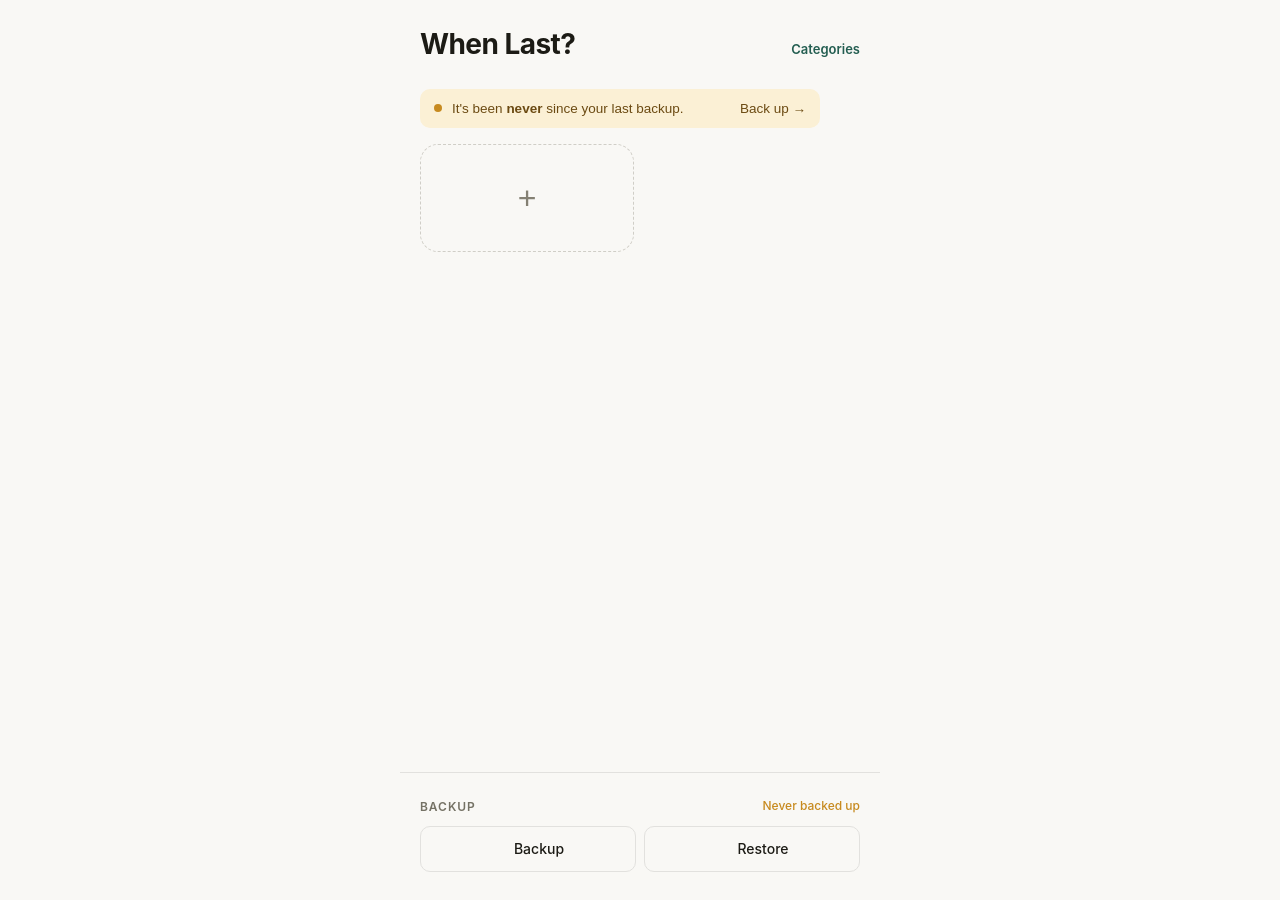
Test case: App › adds an action, opens its detail, and logs it
Step 1. Click the button named "Add action" → click(527, 198), box [420,144,634,252]
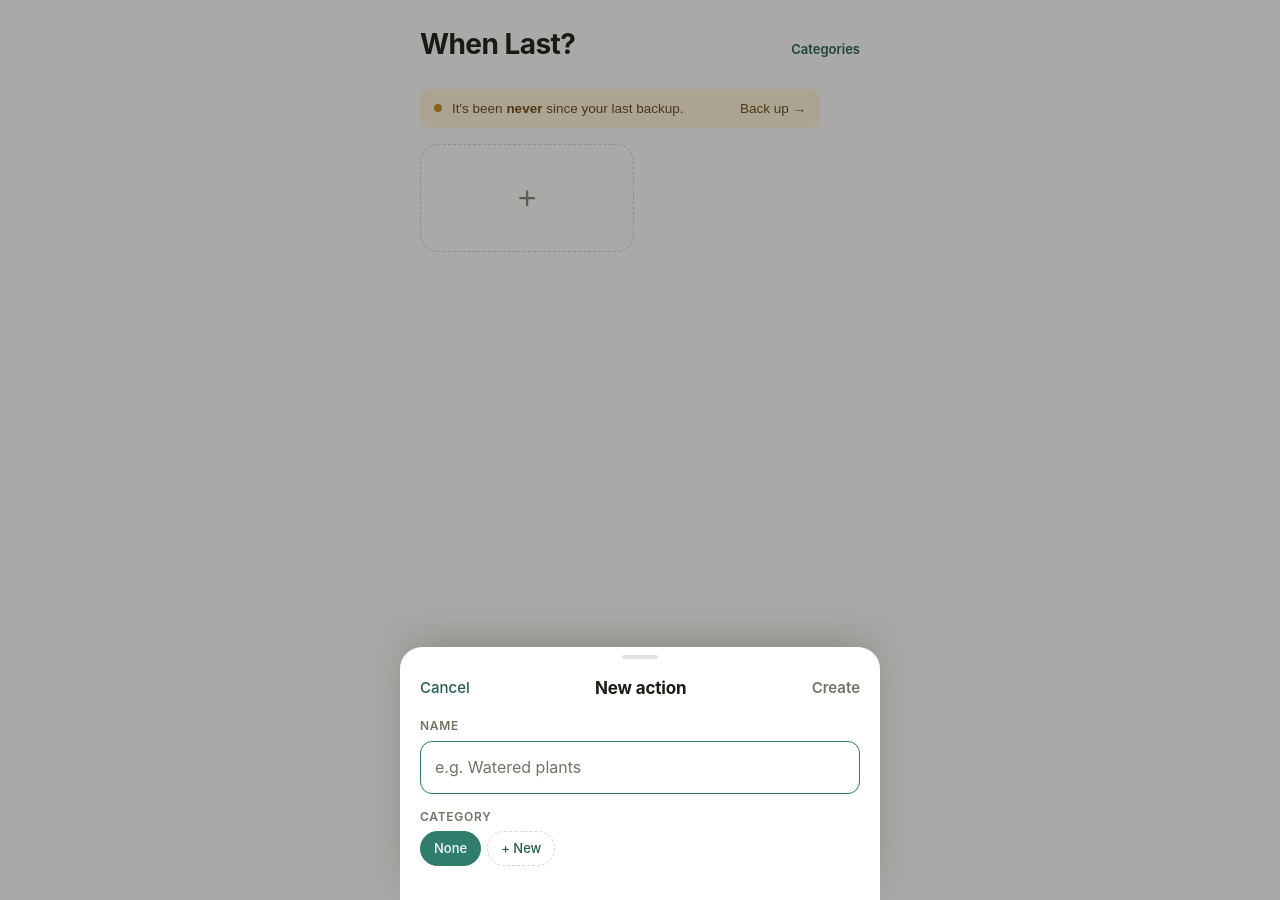
Step 2. Type "Watered plants" into the field with placeholder "e.g. Watered plants" → (640, 767), box [420,741,860,794]
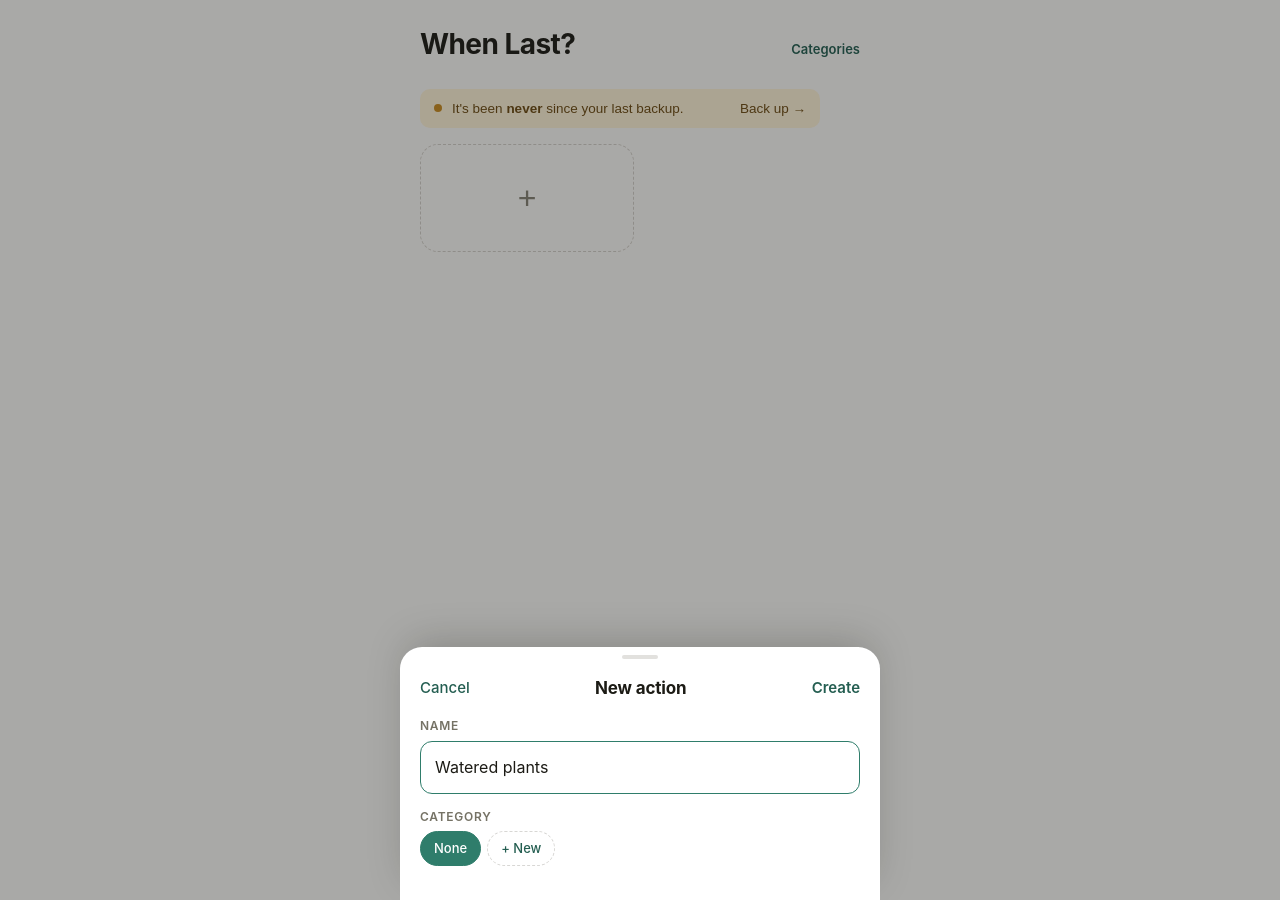
Step 3. Click the button "Create" → click(836, 688), box [812,671,860,705]
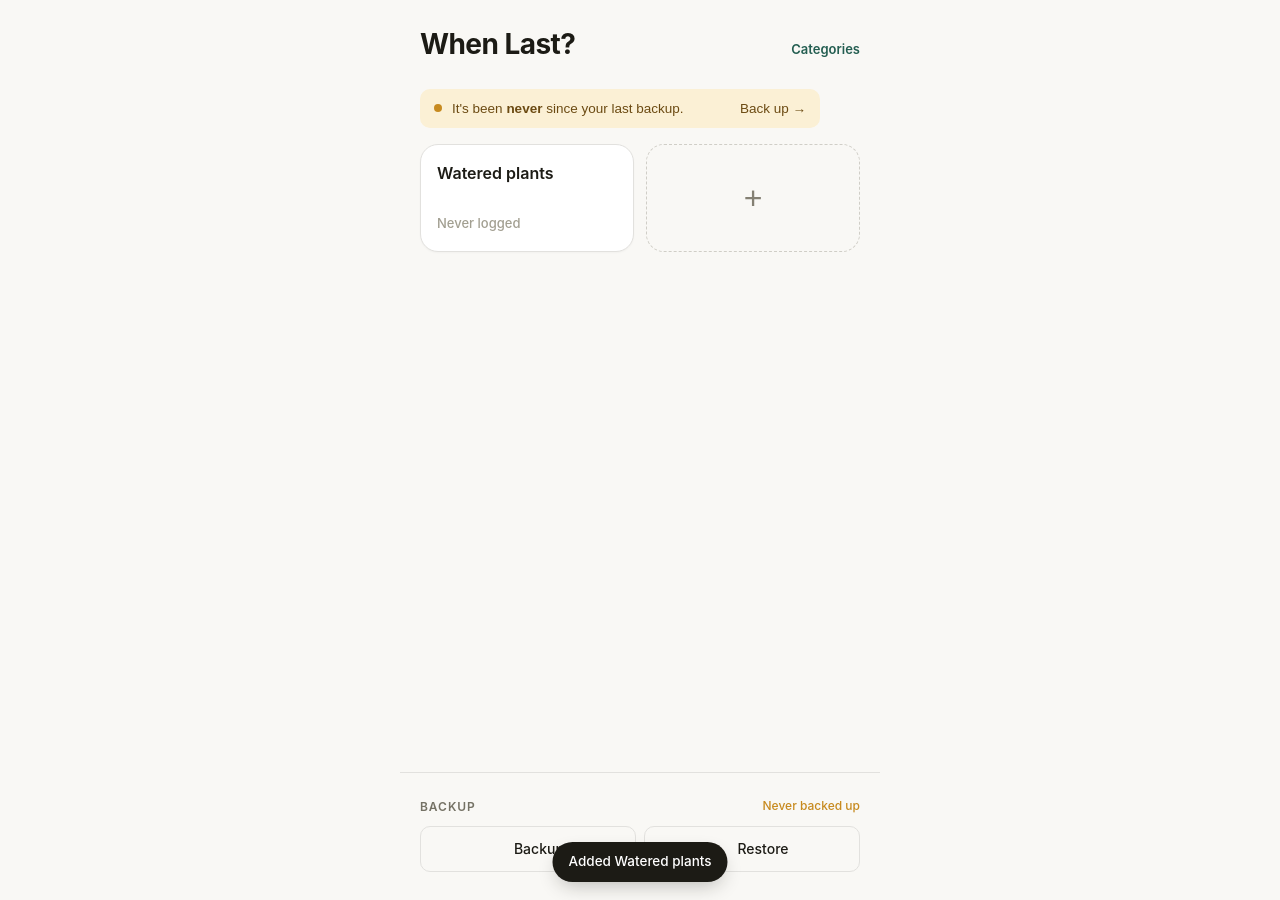
Now the button "Watered plants Never logged" is shown
Step 4. Click the button "Watered plants Never logged" → click(527, 198), box [420,144,634,252]
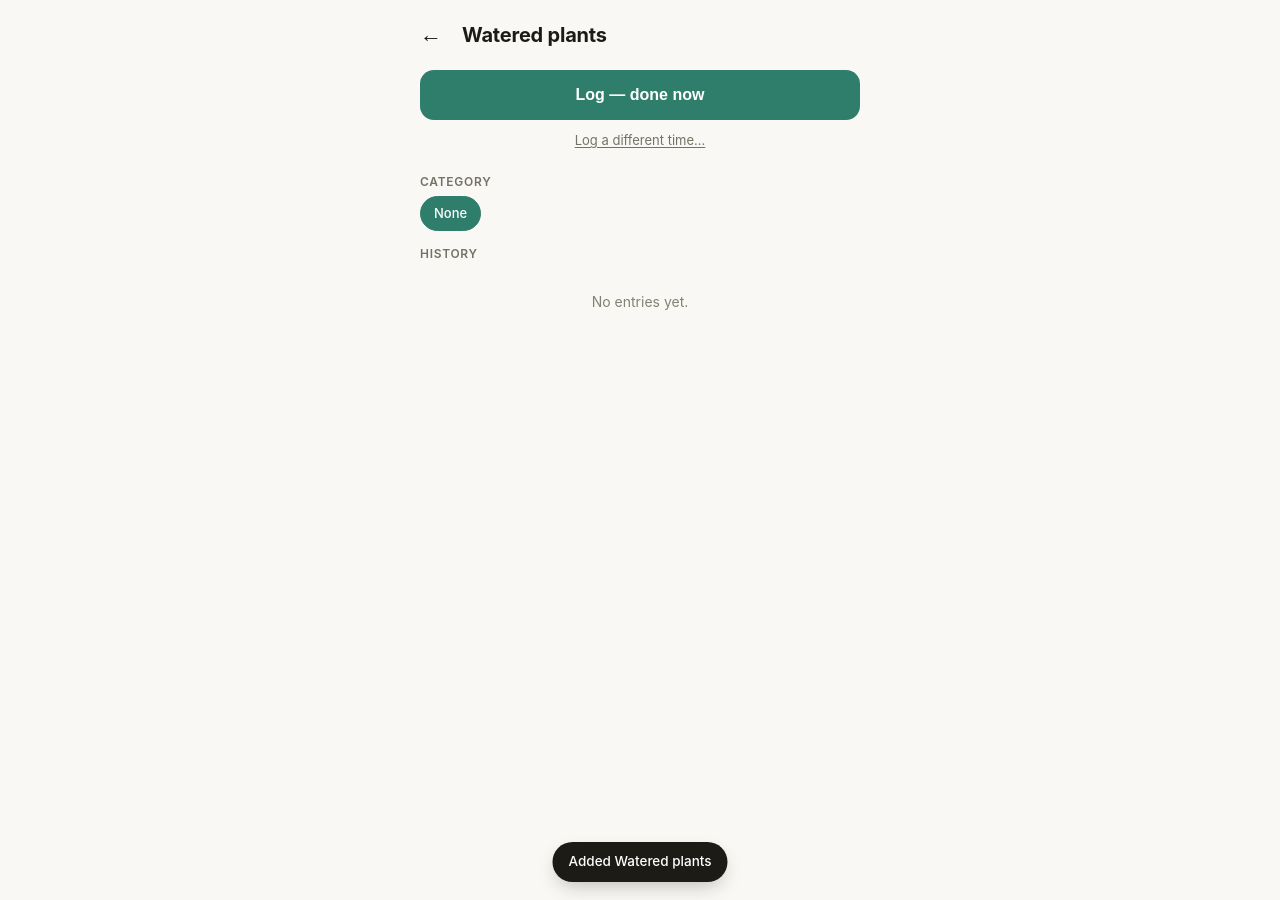
Now the heading "Watered plants" is shown, box [462,20,607,50]
Now the text "No entries yet." is shown, box [592,294,688,310]
Step 5. Click the button "Log — done now" → click(640, 95), box [420,70,860,120]
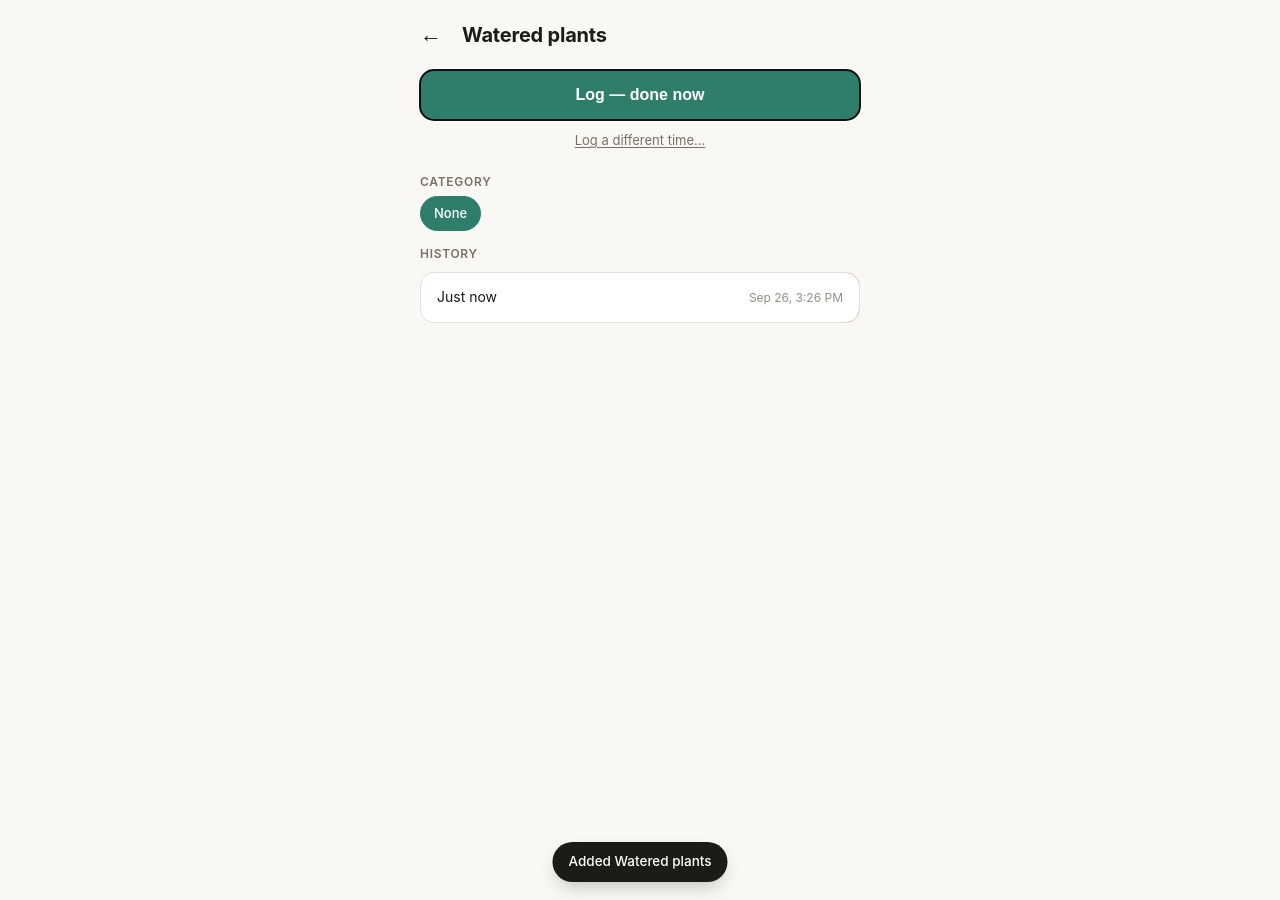
Now the text "No entries yet." is gone
Now the text "Just now" is shown, box [437,288,497,308]
